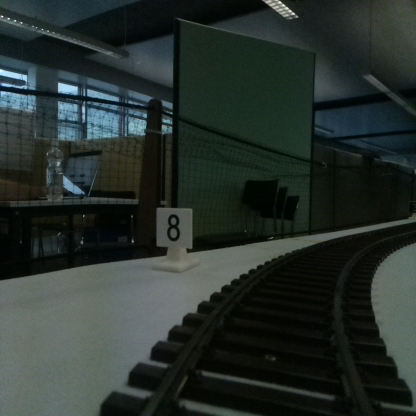white-stop-8: (157, 207, 191, 268)
